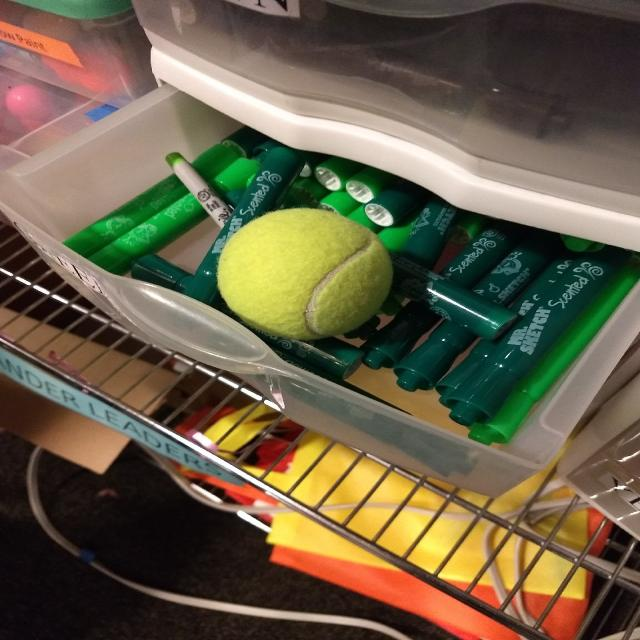tennis-ball: (218, 207, 395, 339)
